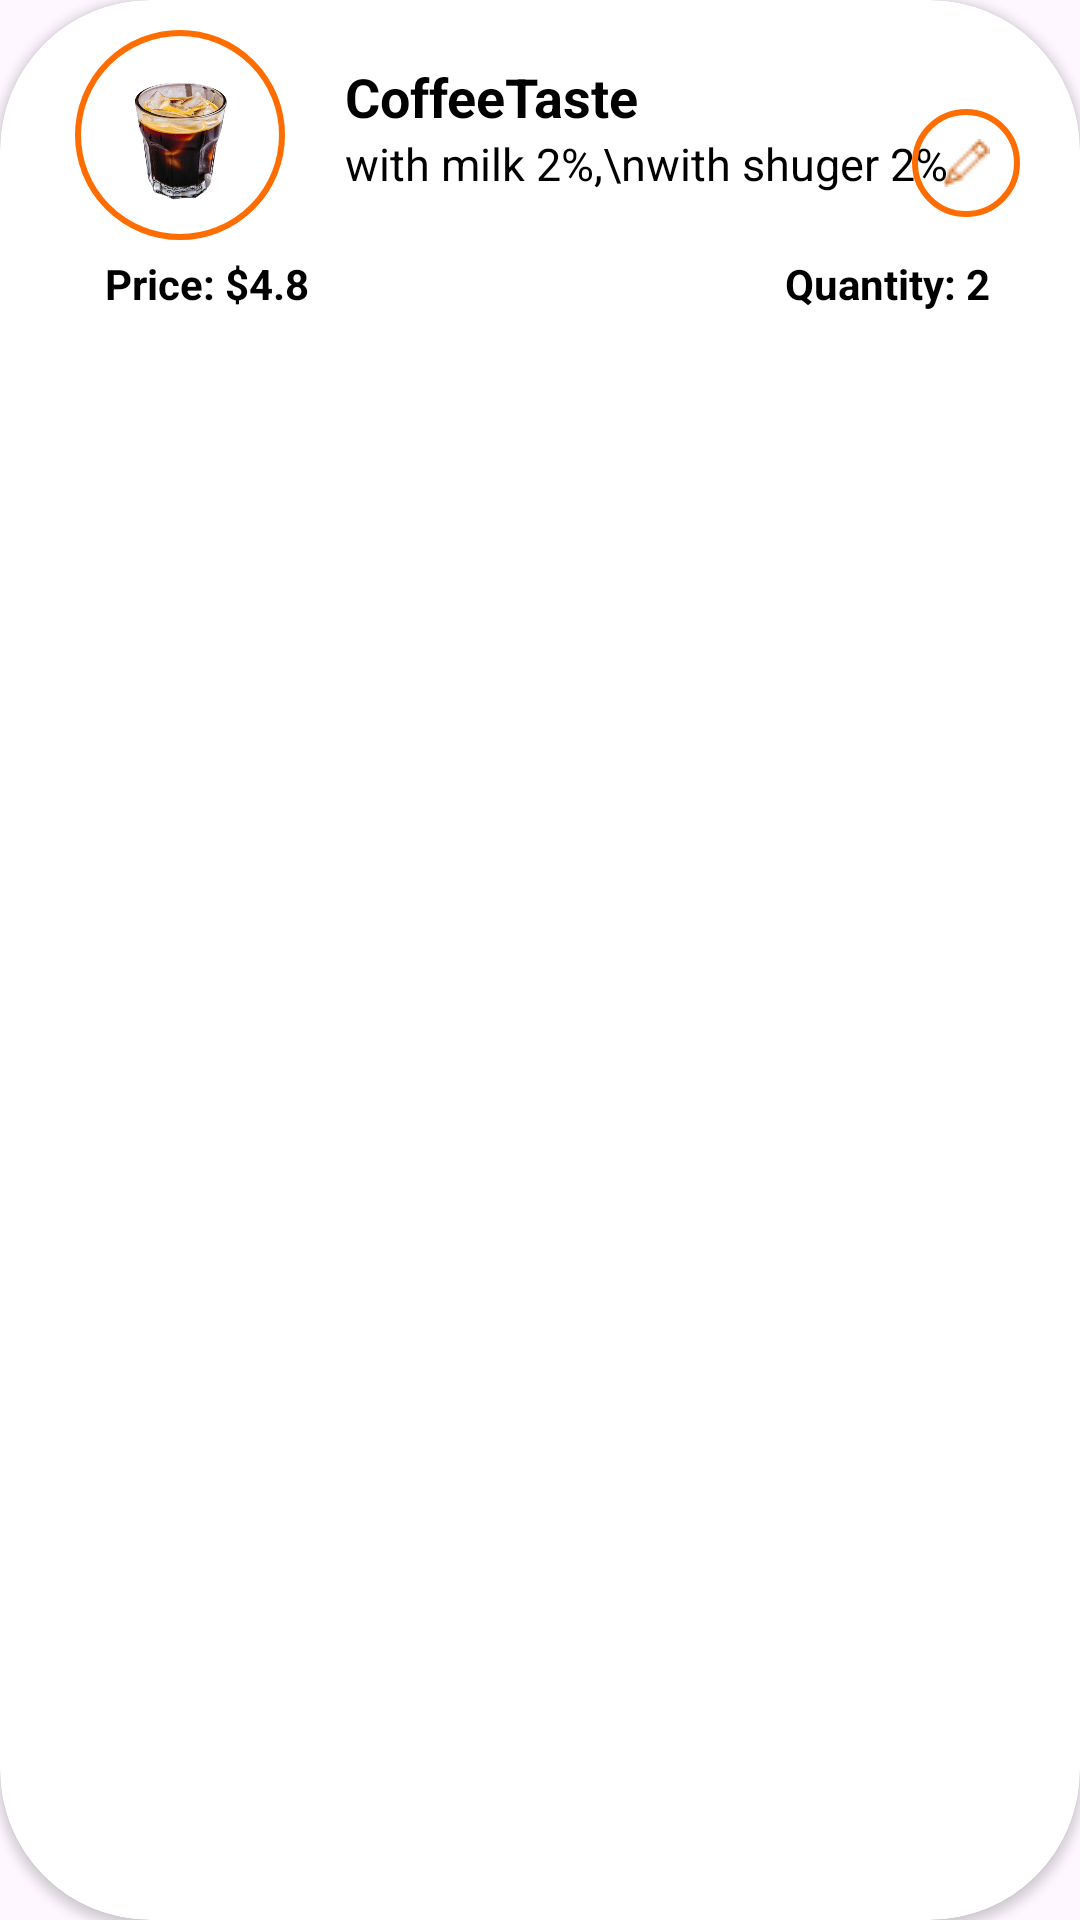

Where icons sit on this 1080 × 1920 app screen, as (left=x1, top=y1, right=x2, bottom=y2):
americano: (left=75, top=30, right=285, bottom=240)
editicon: (left=912, top=109, right=1020, bottom=217)
